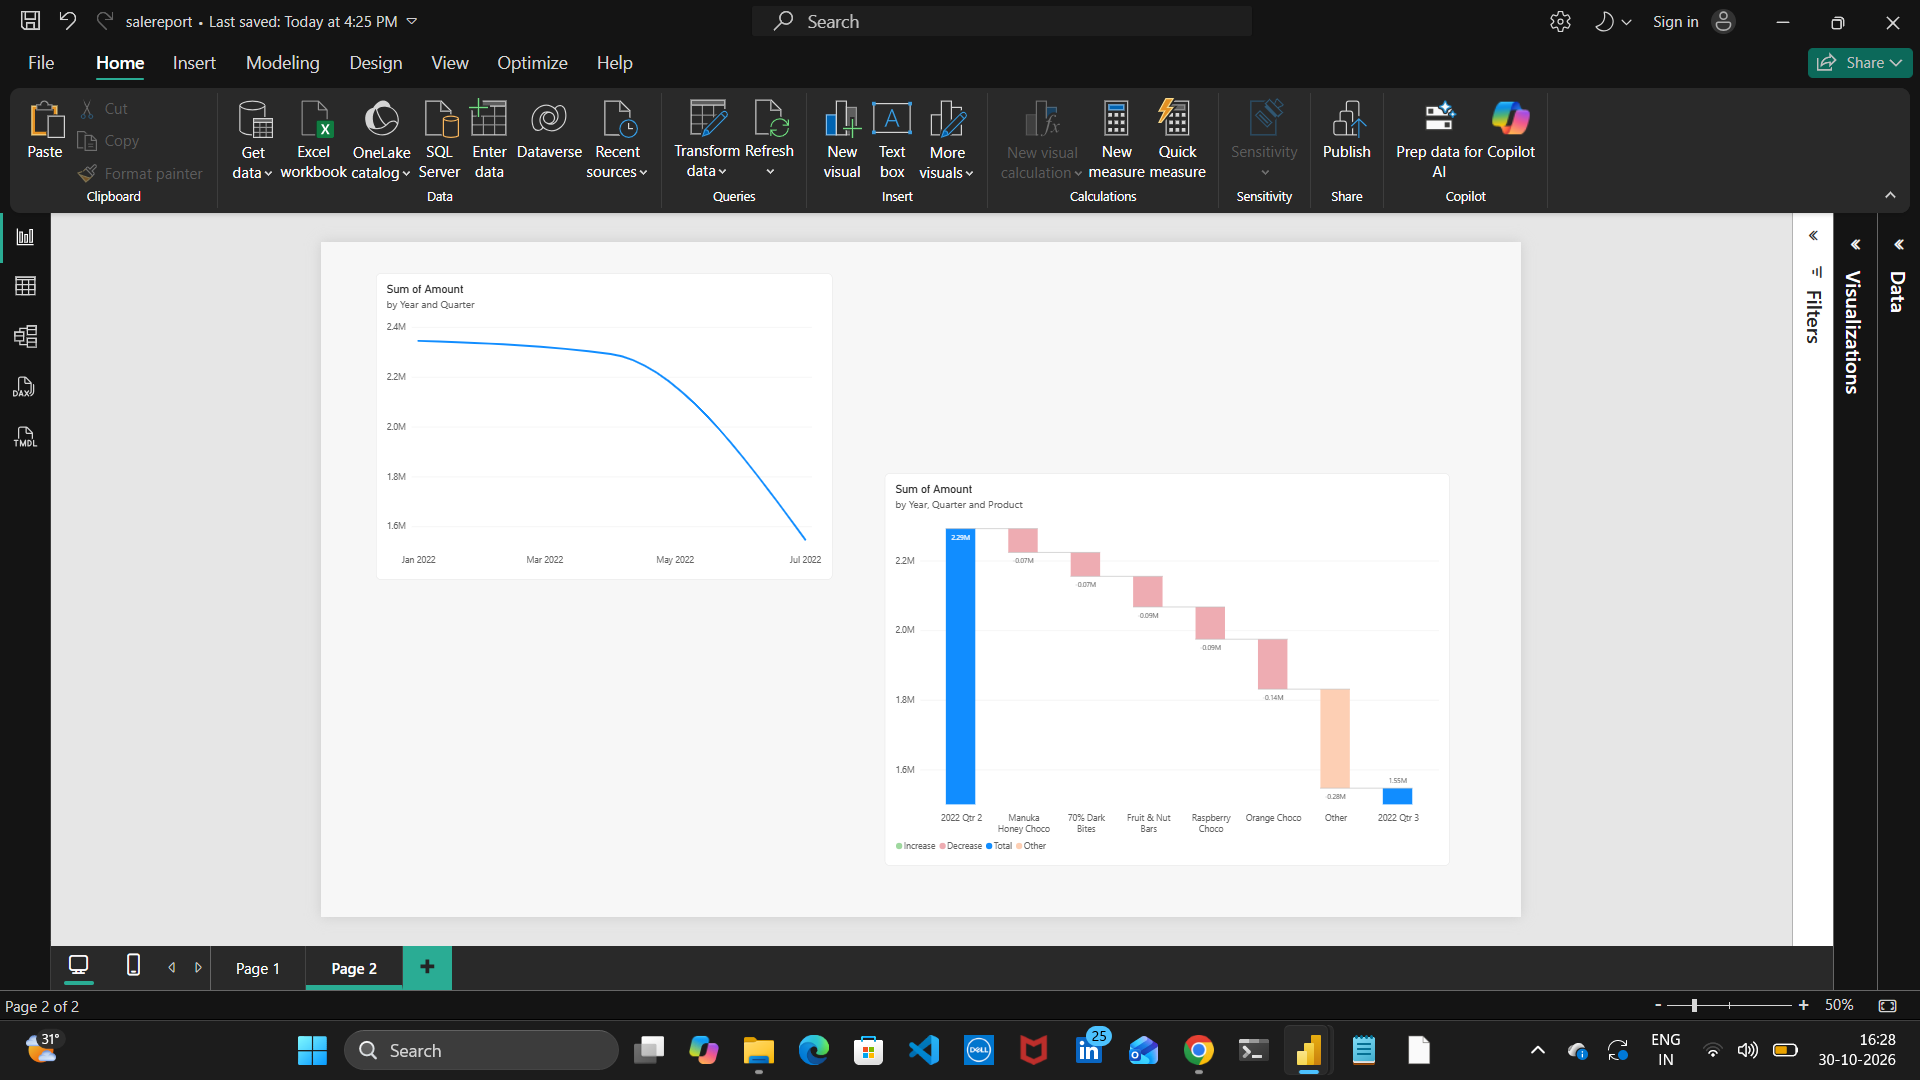

The dashboard page shown, as its layout file describes it:
{"tool":"powerbi","page":{"name":"Page 2","canvas":[1920,1080],"ordinal":1},"visuals":[{"type":"waterfallChart","fields":{"Breakdown":["data.Product"],"Category":["data.Date.Variation.Date Hierarchy.Year","data.Date.Variation.Date Hierarchy.Quarter"],"Y":["Sum(data.Amount)"]},"box":[902,370,904,628],"z":0},{"type":"lineChart","fields":{"Category":["data.Date.Variation.Date Hierarchy.Year","data.Date.Variation.Date Hierarchy.Quarter","data.Date.Variation.Date Hierarchy.Month","data.Date.Variation.Date Hierarchy.Day"],"Y":["Sum(data.Amount)"]},"box":[88,50,730,490],"z":1}]}

Visuals, with their boxes on the page's 1920x1080 design canvas (x1, y1, x2, y2). These are canvas units, not pixel positions in the 1920x1080 screenshot, which may show the page scaled, cropped or inside an application window:
waterfallChart - data.Product x data.Date.Variation.Date Hierarchy.Year: [902,370,1806,998]
lineChart - data.Date.Variation.Date Hierarchy.Year x data.Date.Variation.Date Hierarchy.Quarter: [88,50,818,540]
